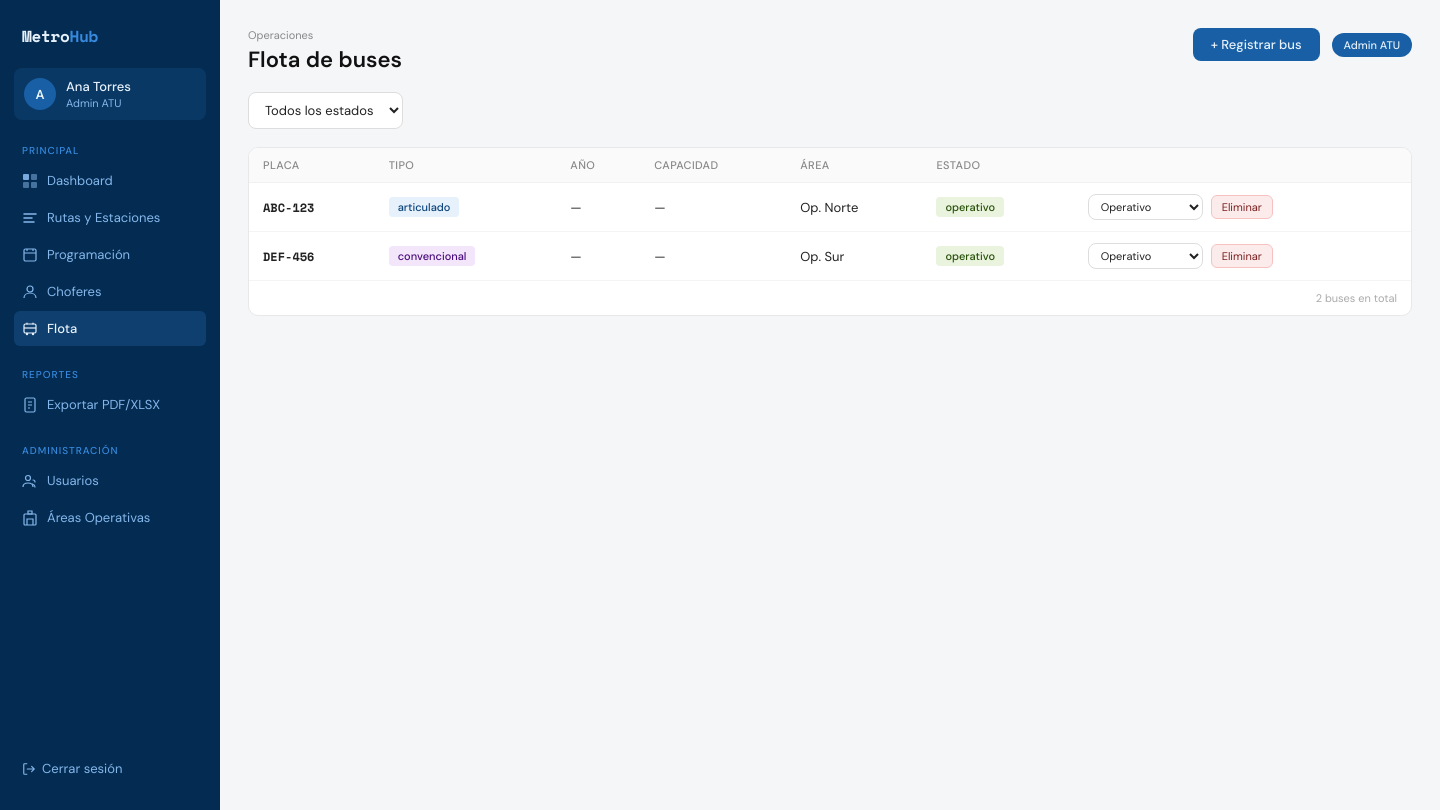
Scenario: Buses (RF09 — flota) › registra un bus normalizando la placa a mayúsculas
Expected: the text "ABC-123" is shown, [263,198,314,216]
Click the button "+ Registrar bus" at x=1256, y=44, box [1193,28,1320,61]
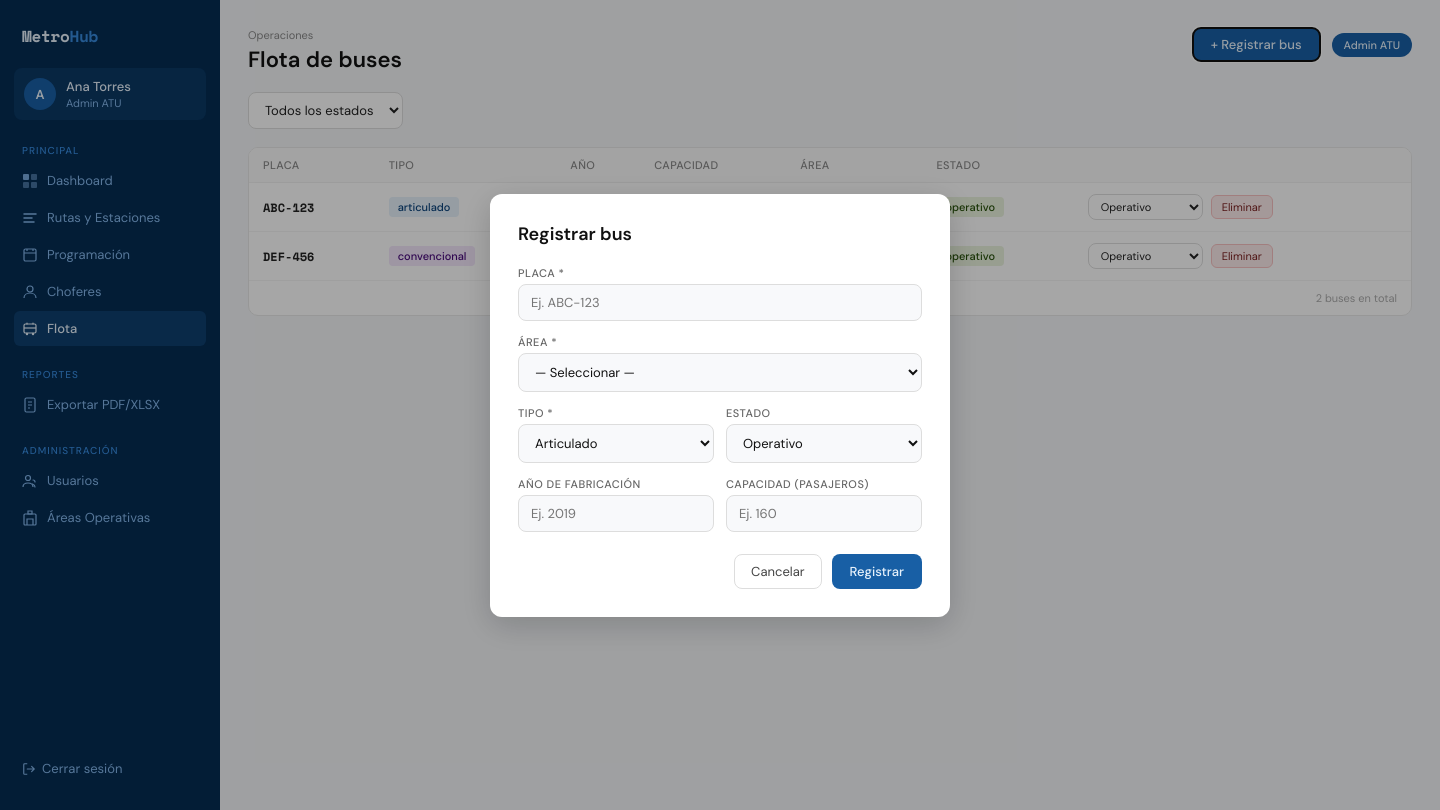
Type "ghi-789" into the field with placeholder "Ej. ABC-123" at x=720, y=302, box [518,284,922,320]
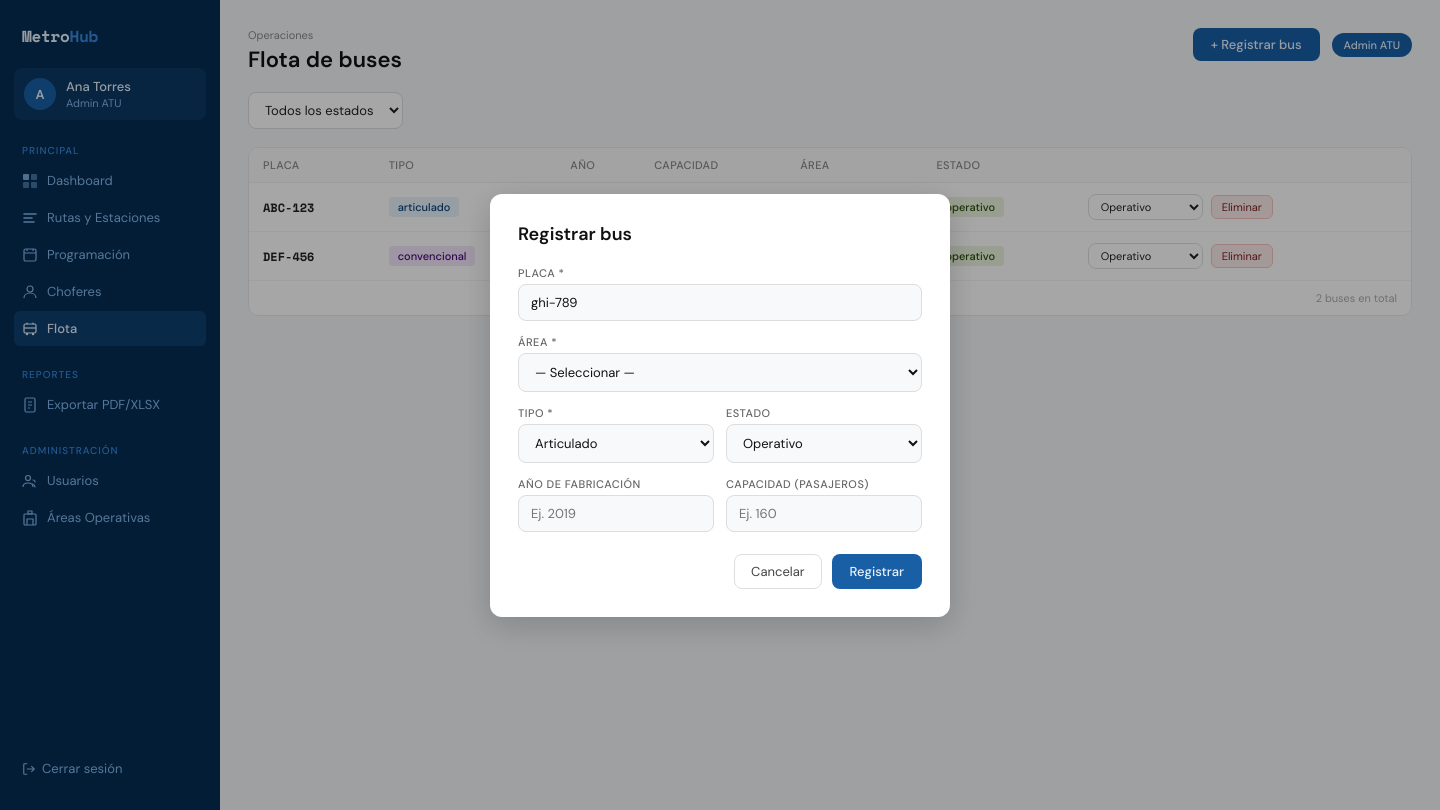
Select "Op. Norte" in the dropdown showing "— Seleccionar —" below "Área *" at x=720, y=372, box [518,352,922,392]
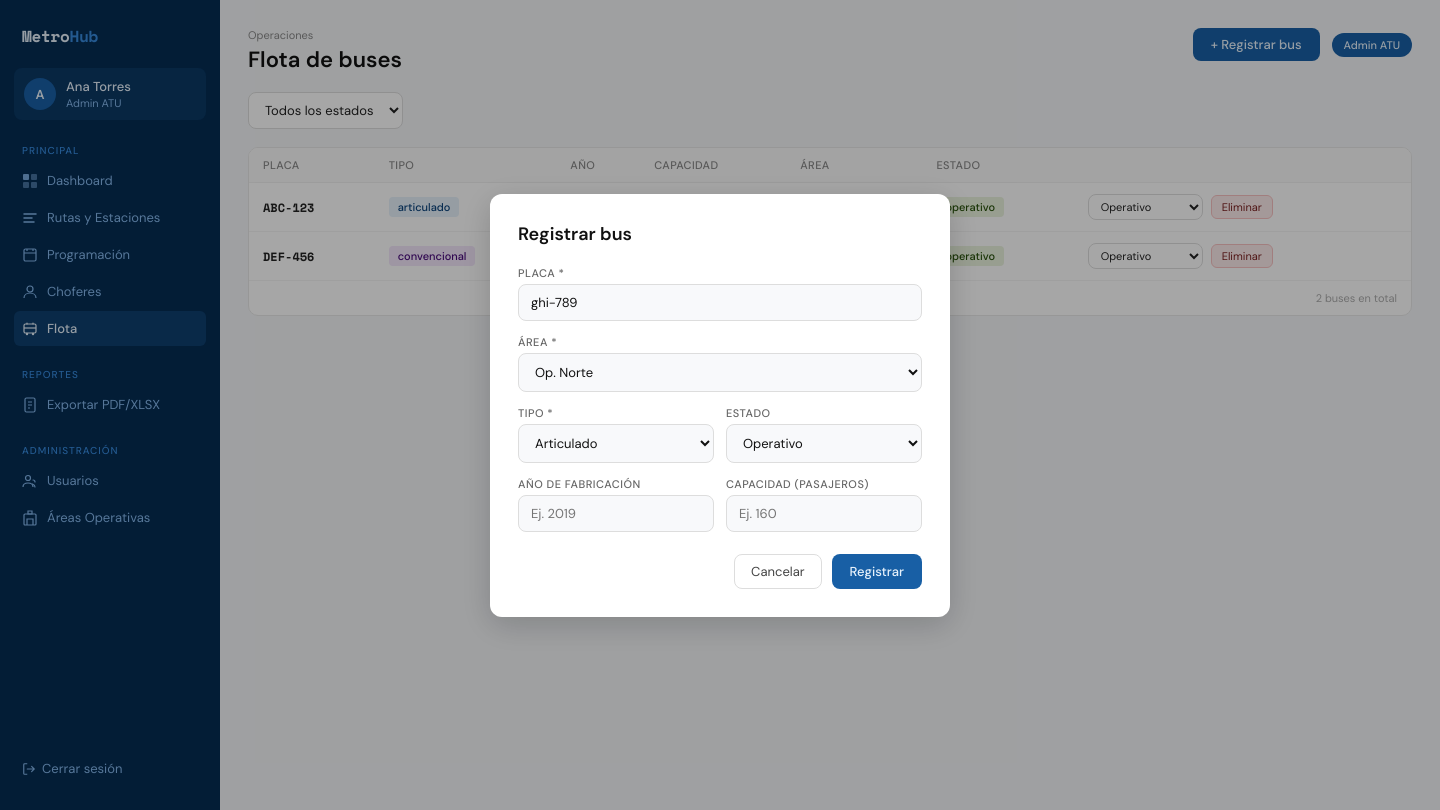
Click the button "Registrar" at x=877, y=571, box [832,554,922,588]
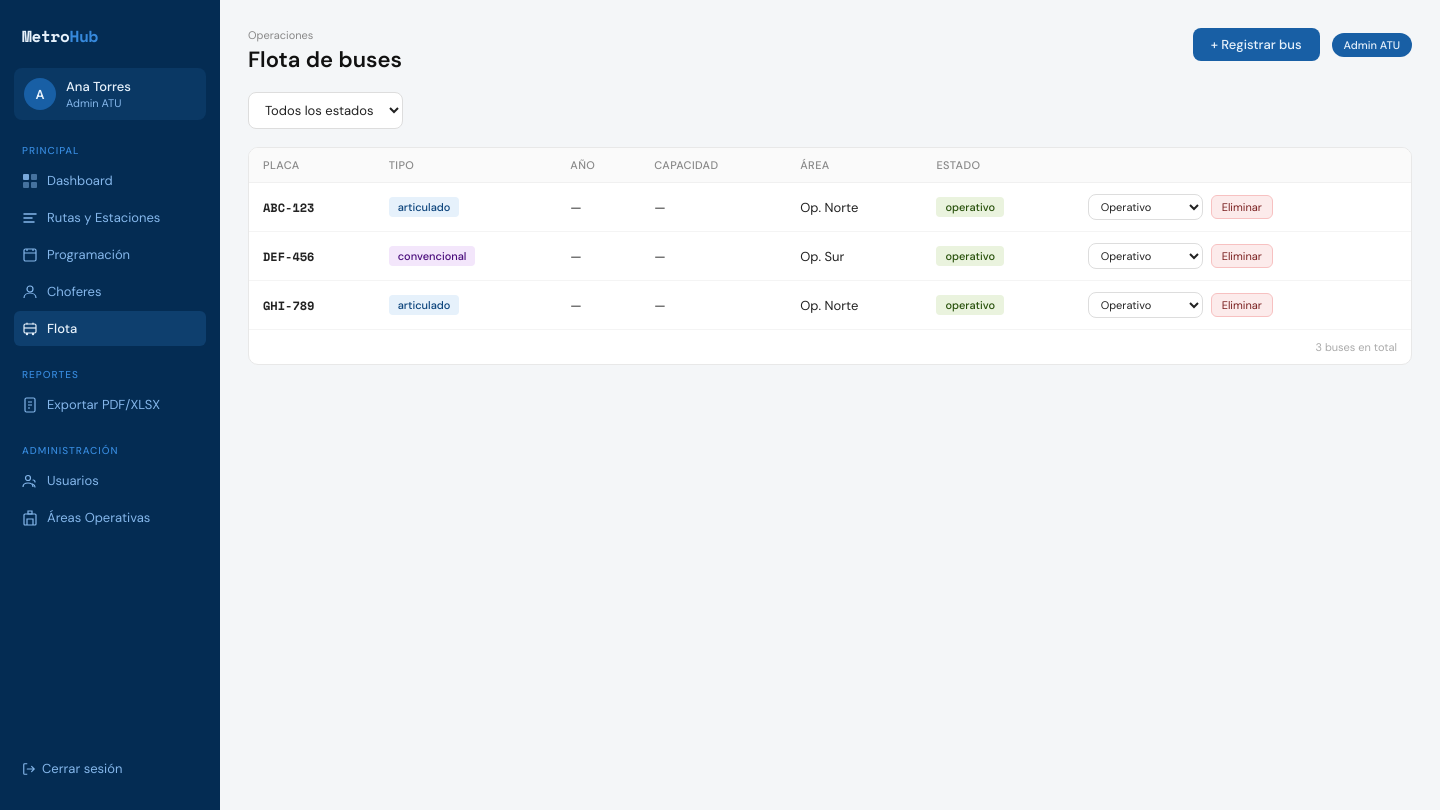
Expected: the text "GHI-789" is shown, [263,296,314,314]
Expected: the text "3 buses en total" is shown, [1316,340,1397,354]
